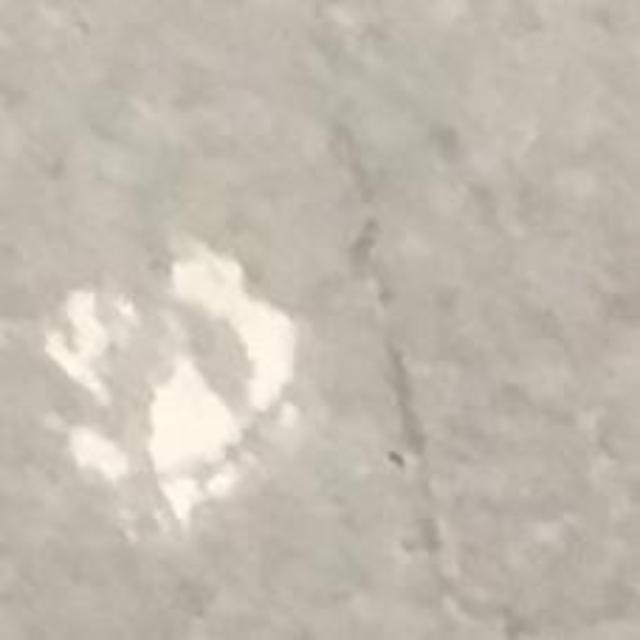peeling plaster: (46, 240, 298, 530)
